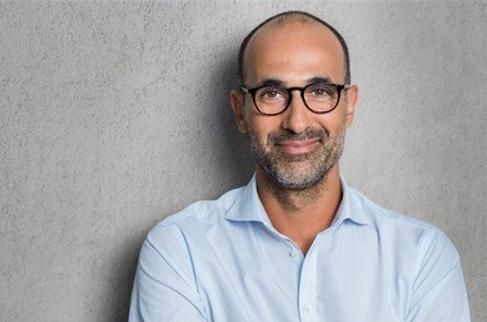Sober: (245, 45, 347, 174)
